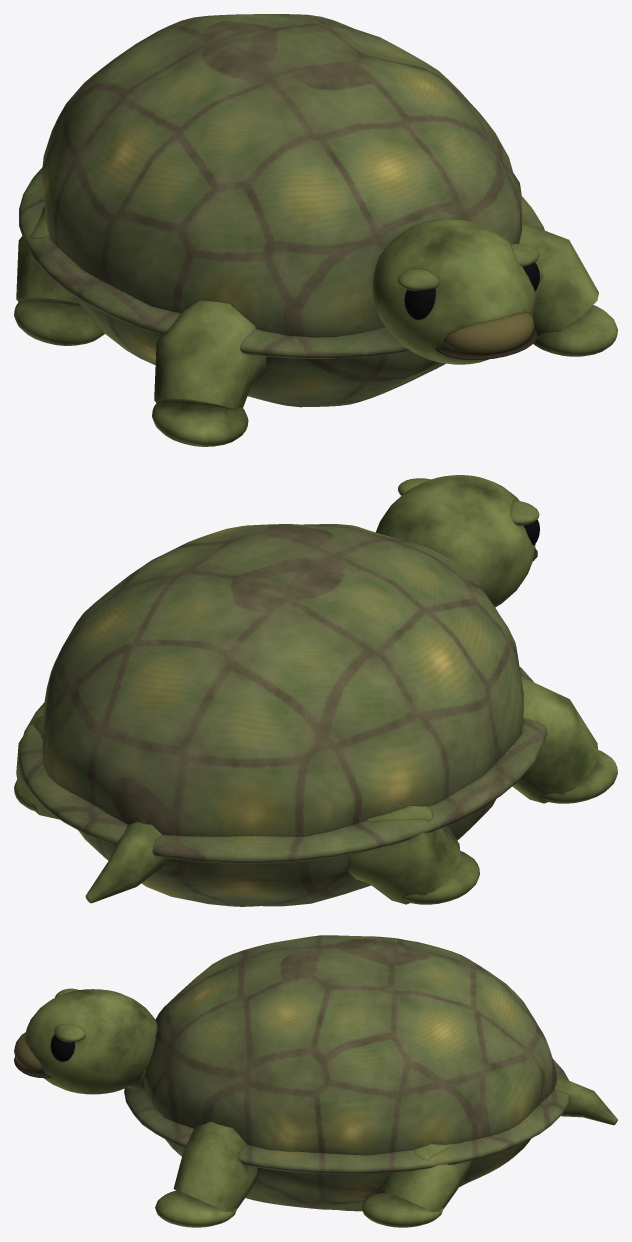
Rendered from pet_tartaruga.glb.
3 views of the same model, one above another, from view 1: azimuth 30°, elevation 25°; view 2: azimuth 150°, elevation 25°; view 3: azimuth 270°, elevation 25° (orthographic). The views are drawn at different scales.
Parts seen in each view (by area): view 1: corpo, cabeca, patas_b, patas_a; view 2: corpo, cabeca, patas_a, patas_b; view 3: corpo, cabeca, patas_b, patas_a.
Boxes of the visible parts, bbox=[...] form: corpo: bbox=[19, 14, 544, 407]; cabeca: bbox=[372, 219, 539, 364]; patas_b: bbox=[14, 206, 617, 356]; patas_a: bbox=[152, 300, 267, 446]; corpo: bbox=[19, 524, 546, 906]; cabeca: bbox=[375, 475, 539, 607]; patas_a: bbox=[14, 676, 617, 819]; patas_b: bbox=[348, 805, 479, 904]; corpo: bbox=[124, 935, 617, 1211]; cabeca: bbox=[14, 988, 157, 1094]; patas_b: bbox=[155, 1121, 257, 1227]; patas_a: bbox=[361, 1143, 471, 1227].
Bounding box in the file's own units: 0.564 × 0.3773 × 0.878.
1 material, 1 textured.
